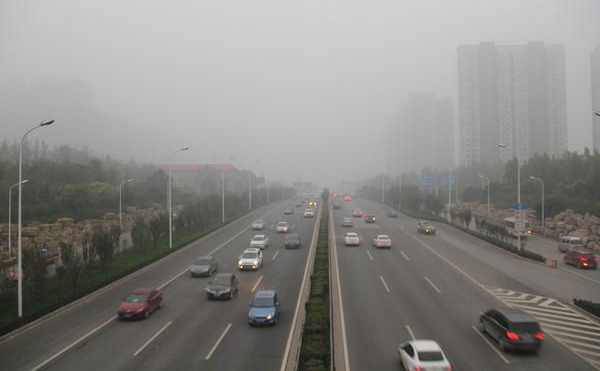bus: (502, 217, 531, 237)
car: (479, 307, 545, 354), (397, 338, 452, 371), (116, 286, 163, 321), (247, 290, 280, 327), (206, 273, 239, 300), (563, 250, 597, 269), (238, 247, 263, 272), (190, 256, 217, 278), (32, 246, 60, 266), (558, 235, 583, 254), (248, 233, 268, 251), (417, 220, 437, 236), (372, 234, 392, 248), (284, 234, 300, 249), (343, 232, 360, 245), (276, 221, 290, 234), (252, 219, 265, 230), (303, 208, 314, 218), (365, 213, 375, 223), (352, 208, 362, 217), (386, 209, 397, 217), (284, 206, 293, 215), (343, 217, 353, 225), (308, 199, 319, 206), (343, 193, 352, 201), (332, 189, 341, 197), (295, 200, 303, 207), (334, 202, 342, 209)
